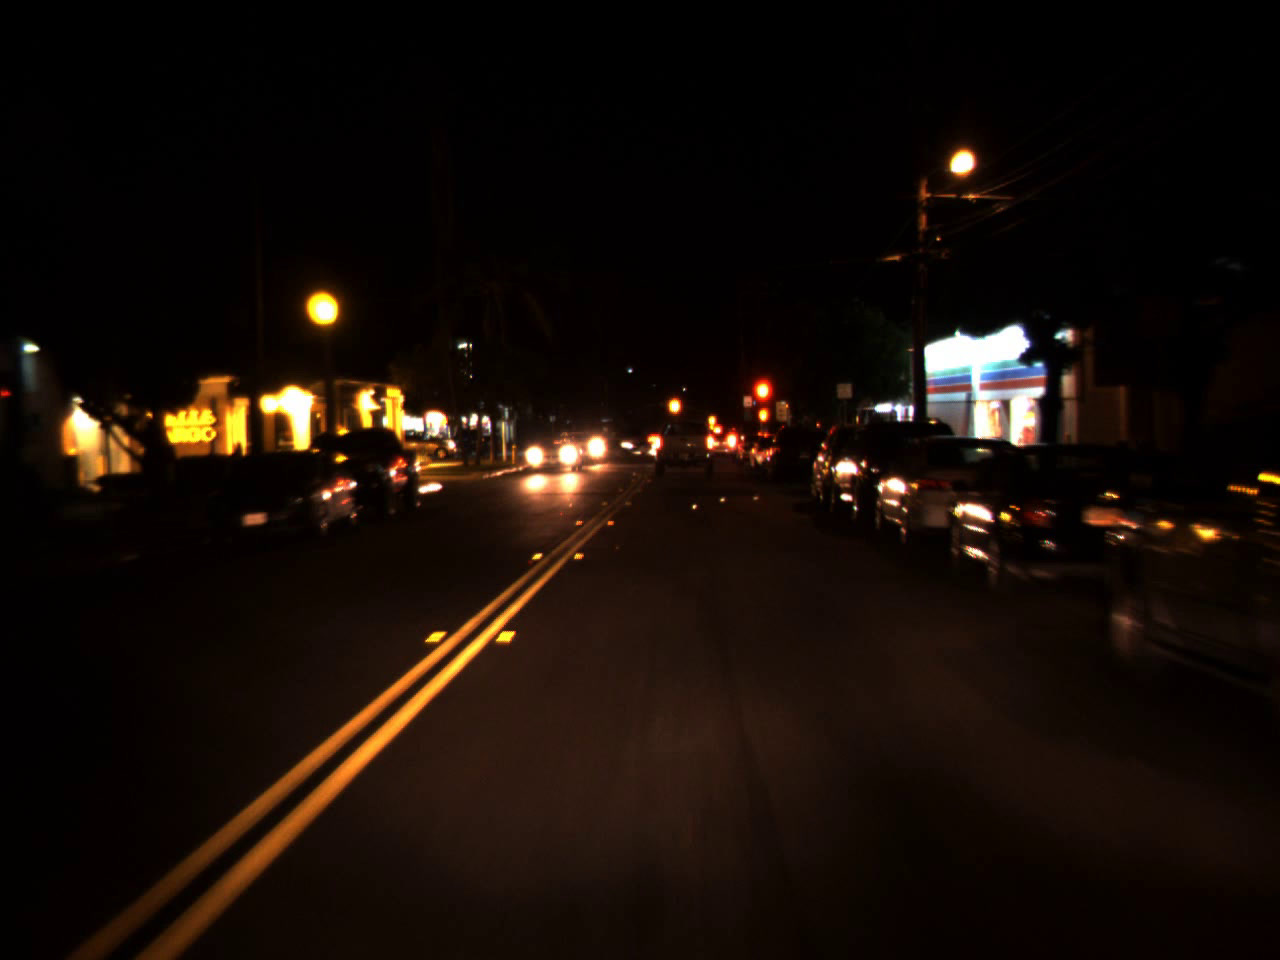stop: (749, 374, 776, 433)
warning: (666, 387, 684, 424), (707, 410, 717, 427)
